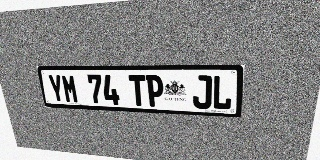4: (101, 75, 120, 105)
7: (86, 75, 105, 104)
J: (193, 75, 212, 109)
L: (212, 75, 233, 110)
M: (61, 74, 79, 103)
P: (145, 75, 164, 107)
T: (128, 75, 147, 106)
Y: (47, 74, 65, 103)
